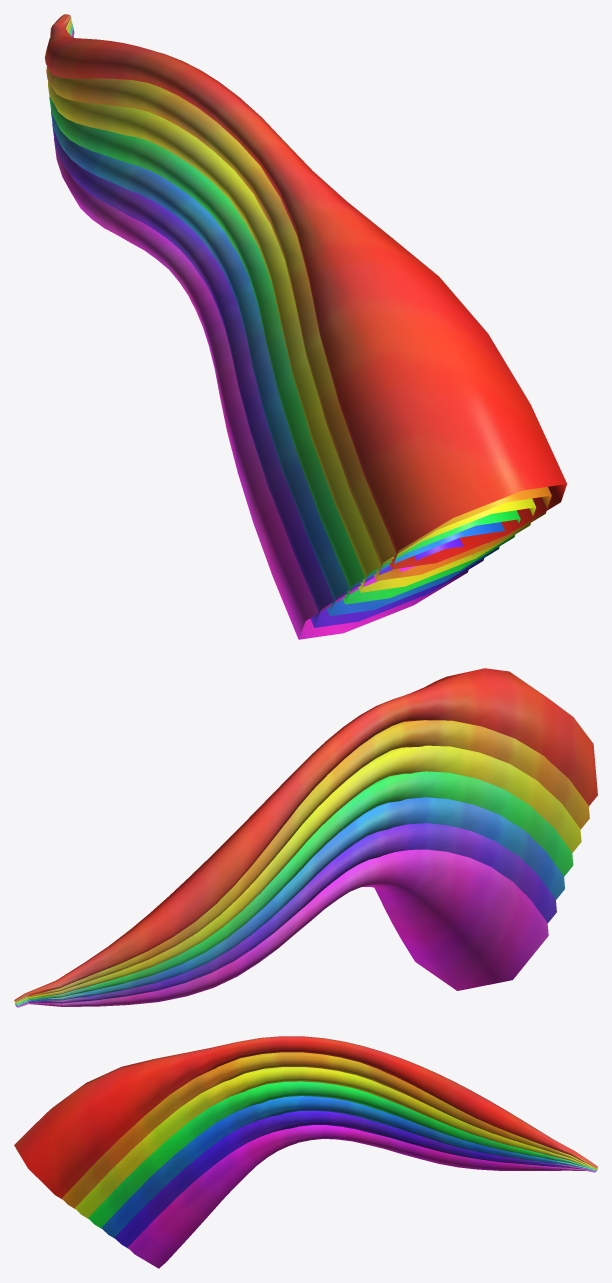
Rendered from Rainbow.fbx.
3 renders of one model, top to bottom at view 1: azimuth 30°, elevation 25°; view 2: azimuth 150°, elevation 25°; view 3: azimuth 270°, elevation 25°, orthographic. The views are drawn at different scales.
Parts seen in each view (by area): view 1: Rainbow; view 2: Rainbow; view 3: Rainbow.
Boxes of the visible parts, bbox=[...] form: Rainbow: bbox=[45, 14, 566, 639]; Rainbow: bbox=[14, 668, 597, 1007]; Rainbow: bbox=[14, 1036, 597, 1268].
Bounding box in the file's own units: 577 × 1041 × 2434.
Materials: 1 (1 with a texture image).
